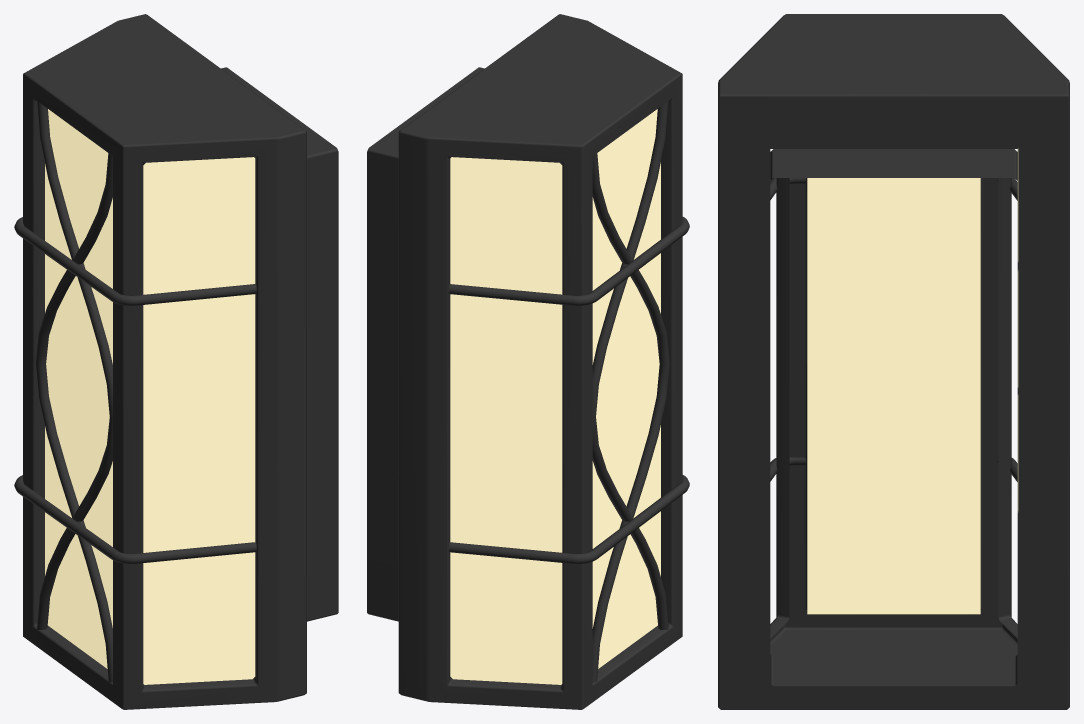
The model's file is SM_WallLamp_01.fbx.
3 views of the same model, side by side, from view 1: azimuth 30°, elevation 25°; view 2: azimuth 150°, elevation 25°; view 3: azimuth 270°, elevation 25° (orthographic). The views are drawn at different scales.
Visible parts, largest first — view 1: SM_WallLamp_01_LOD0; view 2: SM_WallLamp_01_LOD0; view 3: SM_WallLamp_01_LOD0.
Boxes of the visible parts, x1,y1,x2,y2 form: SM_WallLamp_01_LOD0: (14,14,338,709); SM_WallLamp_01_LOD0: (367,14,689,709); SM_WallLamp_01_LOD0: (718,14,1069,709).
Size of the model in its own units: 18 by 22.93 by 44.28.
